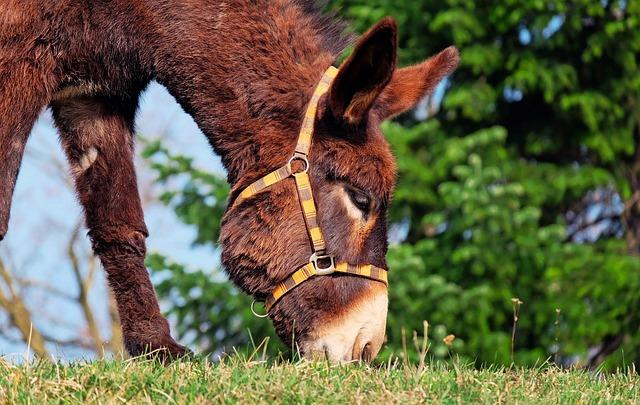Non_Gorille: (36, 9, 525, 383)
